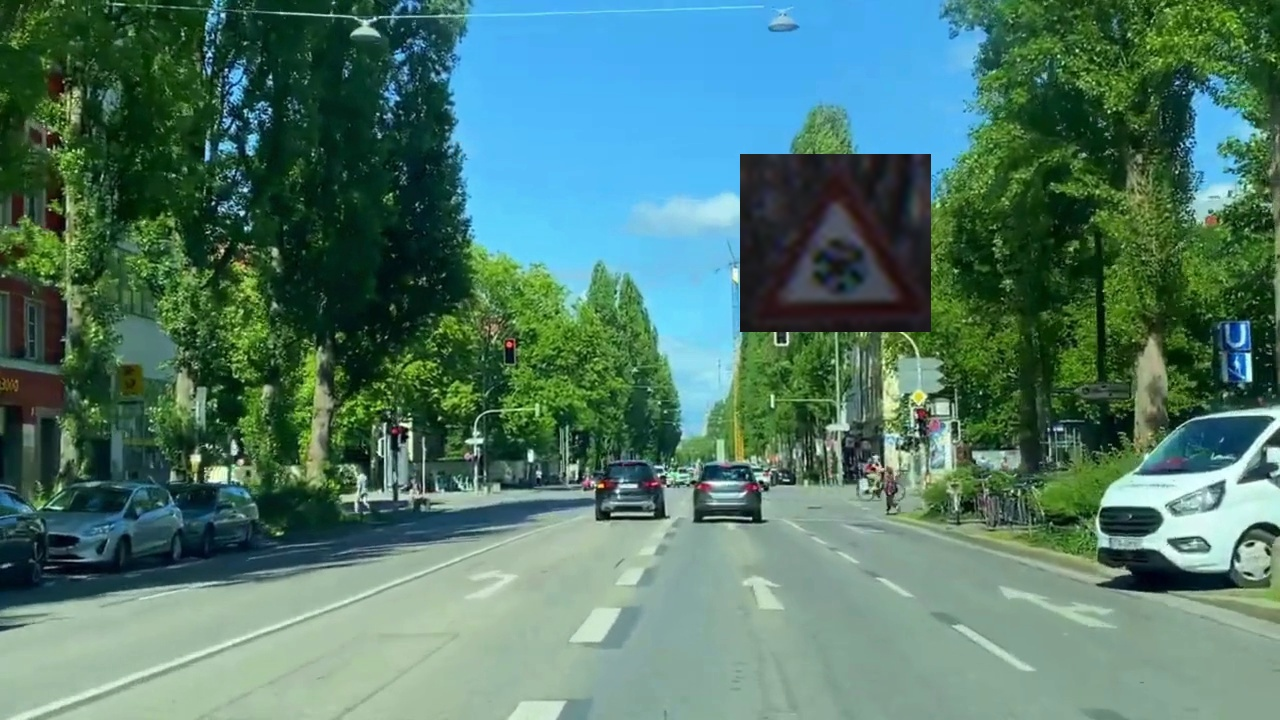Ice/snow: (740, 154, 931, 332)
